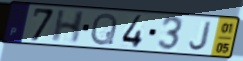3: (156, 15, 185, 53)
4: (120, 13, 144, 50)
7: (31, 7, 56, 43)
H: (49, 9, 87, 44)
J: (188, 20, 215, 52)
Q: (89, 11, 119, 47)
